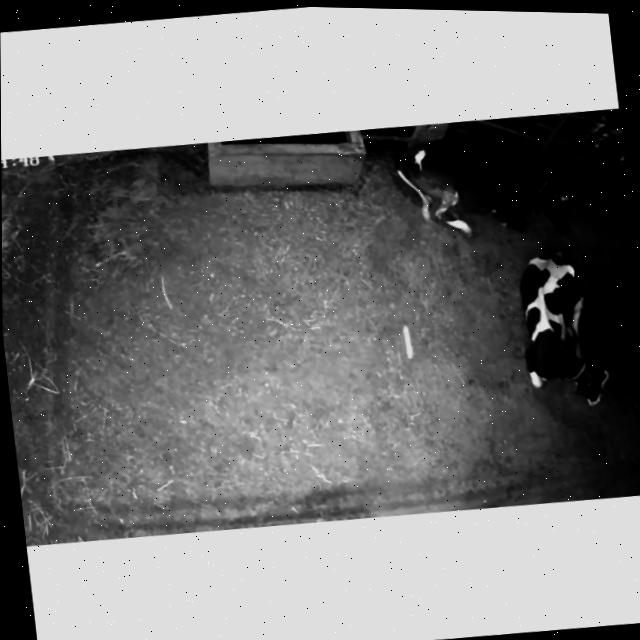lay: (382, 119, 586, 260), (491, 236, 618, 421)
